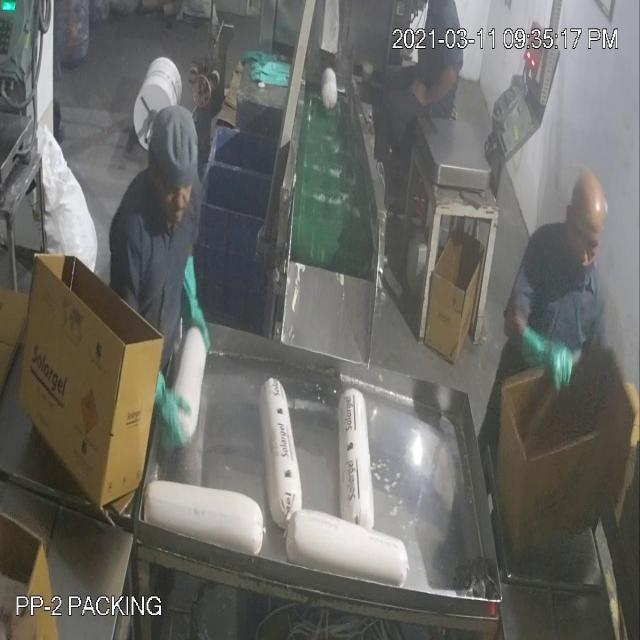No_Gloves: (34, 54, 544, 361)
